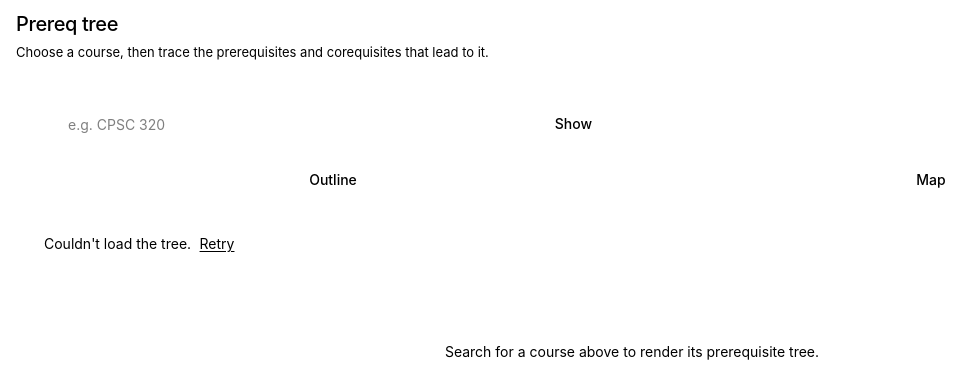
Test: PrereqTreePane › renders the retry alert when the index fetch fails
Expected: the element showing "Couldn't load the tree. Retry" is shown, [44,222,239,266]
What coordinates should you click on to do the following:
click the button "Retry"
I would click on:
 (217, 244)
Its box is [195,222,239,266].
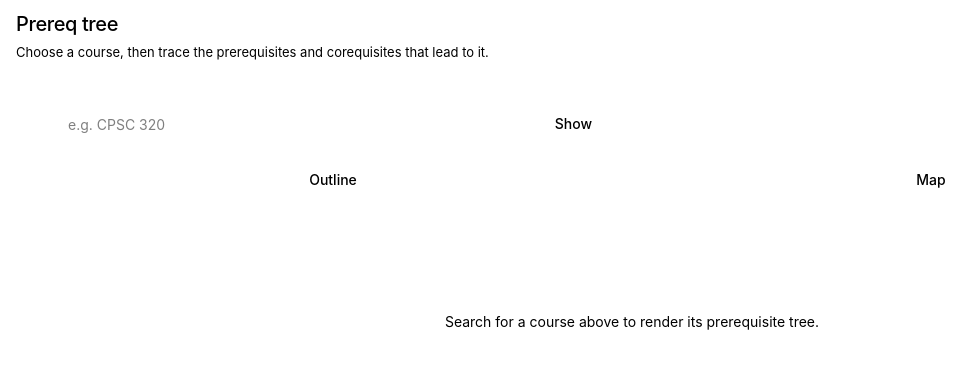
Result: the text "Couldn't load the tree" is gone
